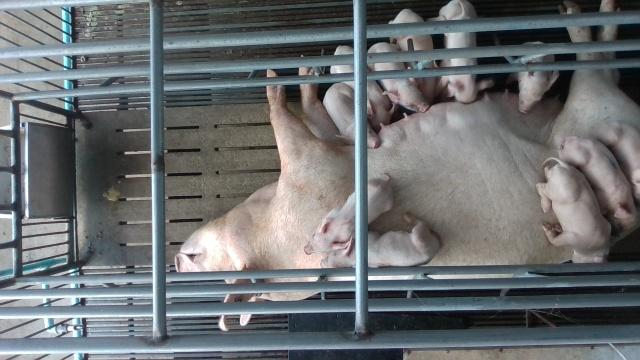piglet: (555, 135, 639, 239), (535, 156, 612, 264), (304, 172, 395, 256), (428, 0, 493, 102), (320, 214, 441, 267), (329, 45, 393, 133), (388, 8, 441, 100), (367, 41, 430, 112), (322, 82, 381, 150), (595, 121, 640, 204), (515, 40, 559, 115)
sow-sleep-lactate: (173, 0, 640, 331)
